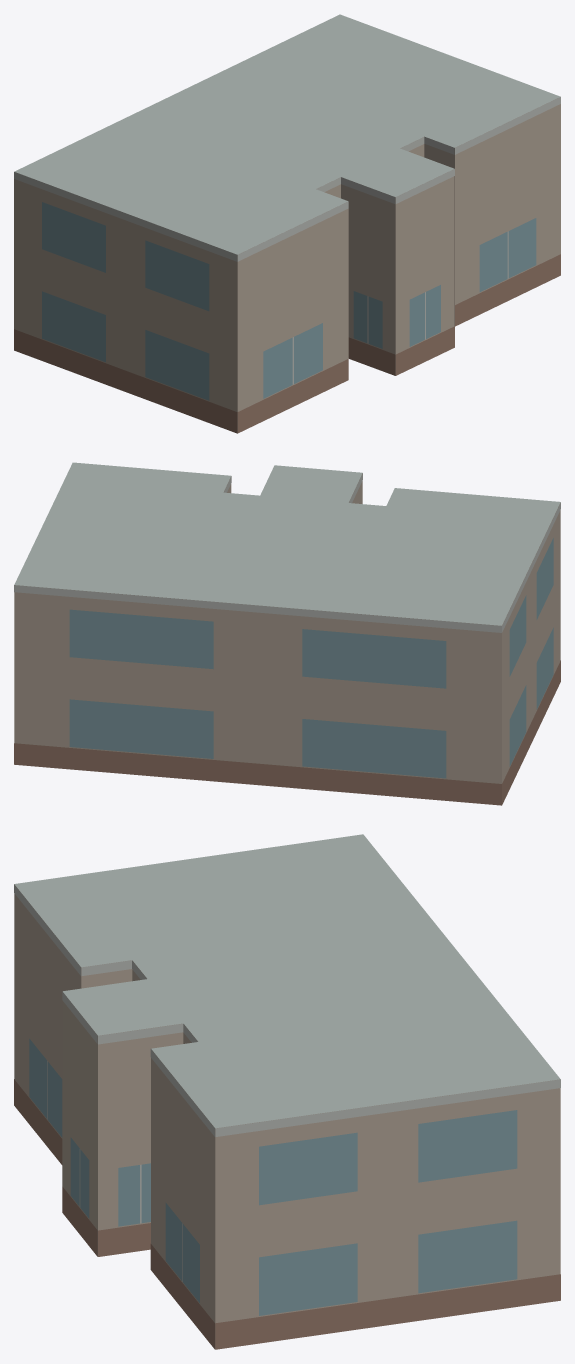
File: survey-upis-32702169.glb
The picture shows the model from 3 angles, top to bottom: view 1: azimuth 30°, elevation 25°; view 2: azimuth 150°, elevation 25°; view 3: azimuth 270°, elevation 25°; orthographic projection. The views are drawn at different scales.
Visible parts, largest first — view 1: survey-upis-32702169.tmp; view 2: survey-upis-32702169.tmp; view 3: survey-upis-32702169.tmp.
Part boxes in pixels (bbox=[...]): survey-upis-32702169.tmp: bbox=[14, 14, 560, 433]; survey-upis-32702169.tmp: bbox=[14, 462, 560, 805]; survey-upis-32702169.tmp: bbox=[14, 834, 560, 1349].
Size of the model in its own units: 17.4 by 6.1 by 13.66.
